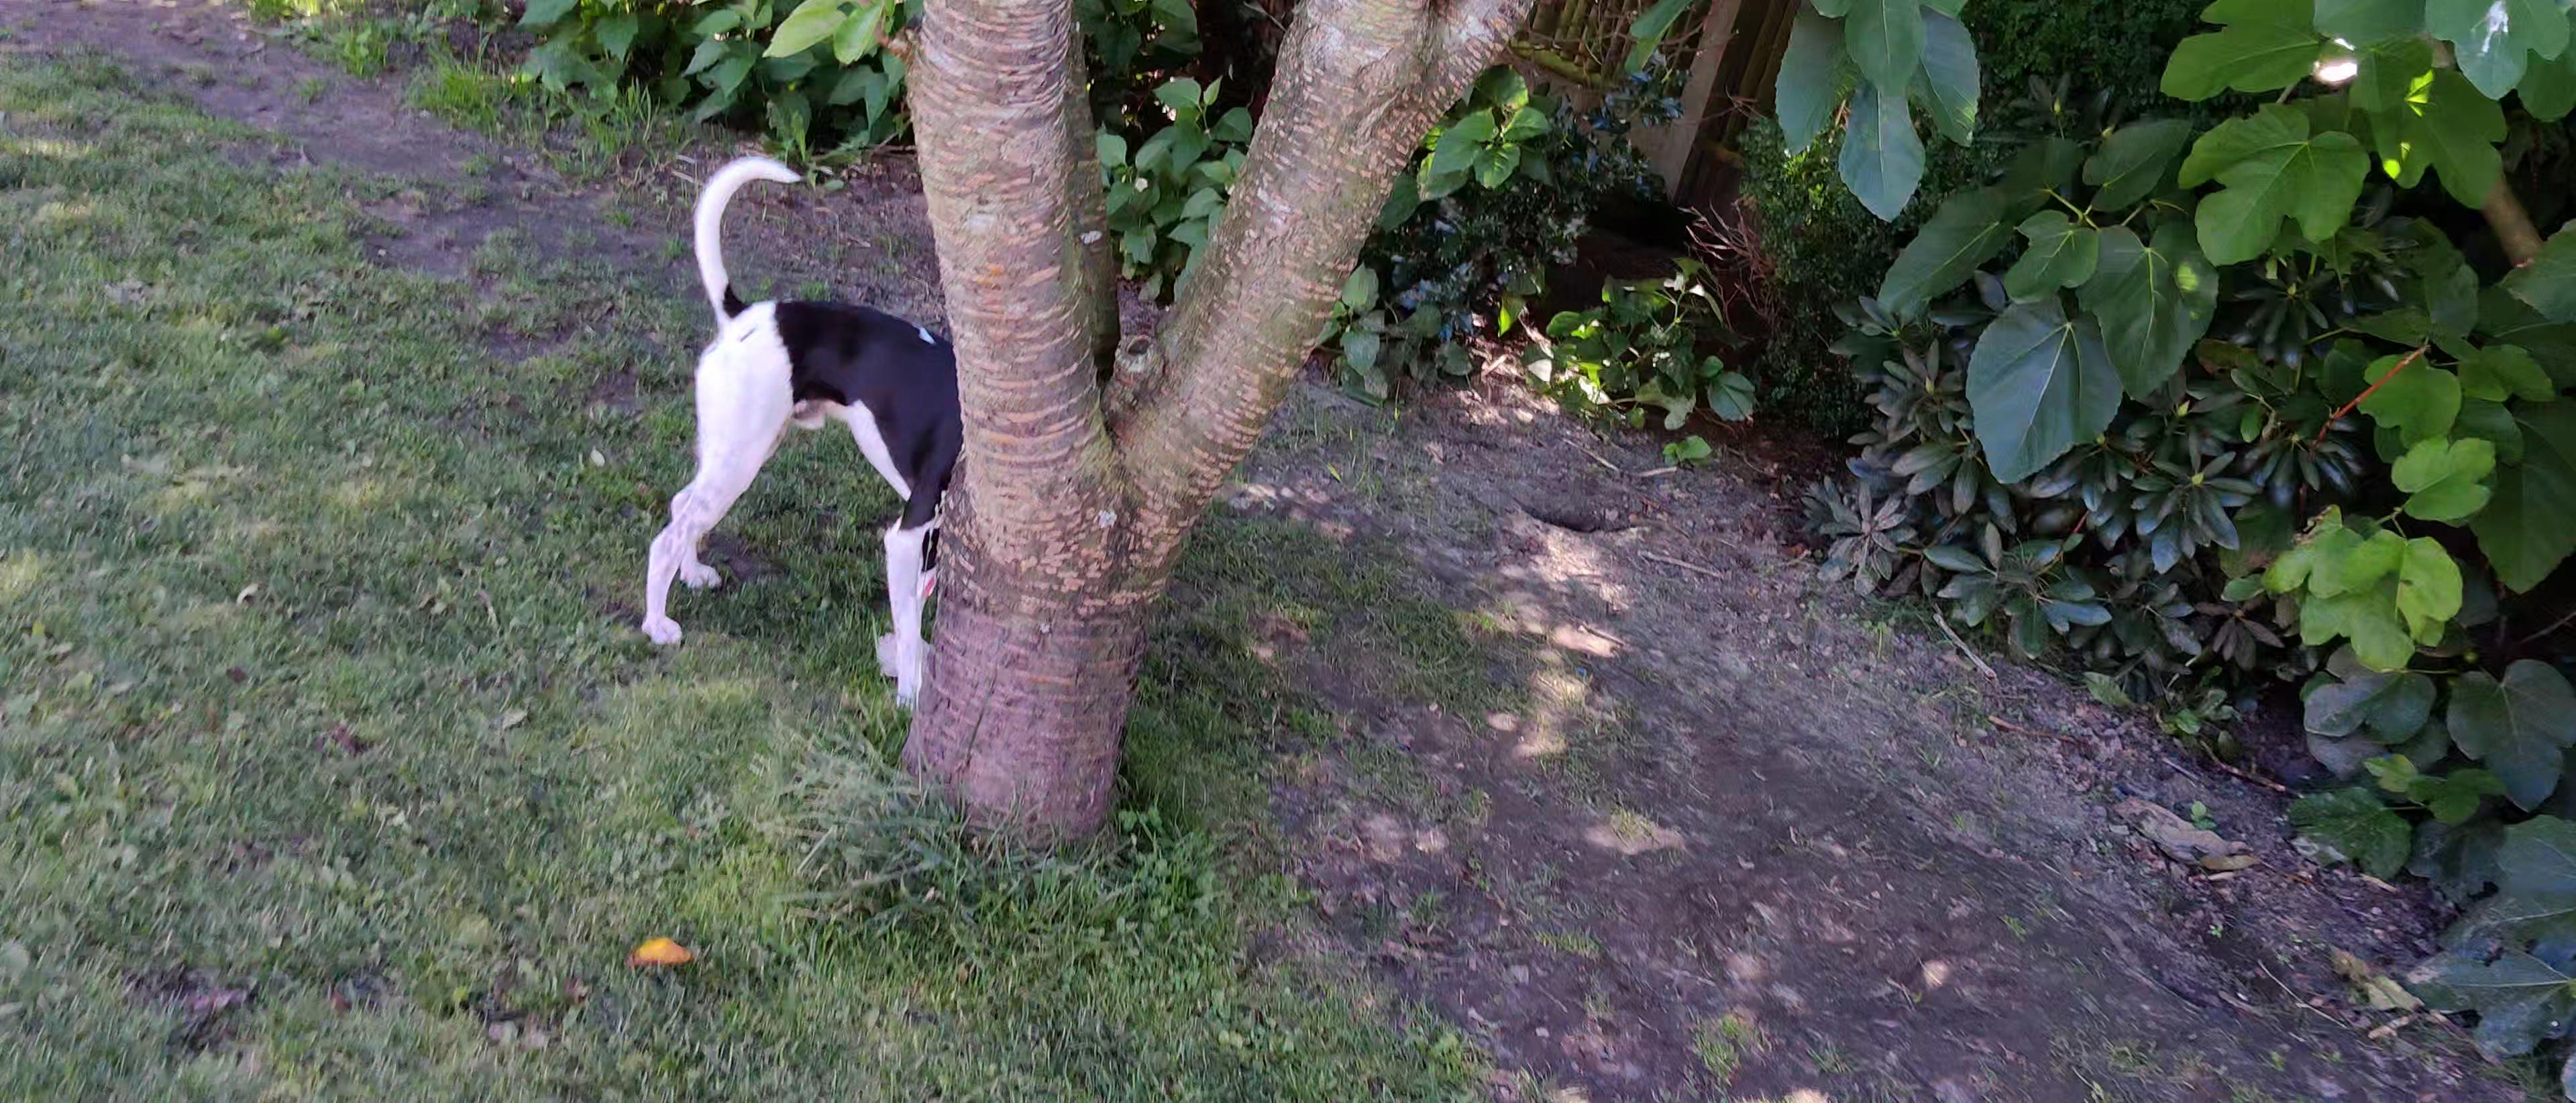Dog: (628, 153, 1042, 715)
